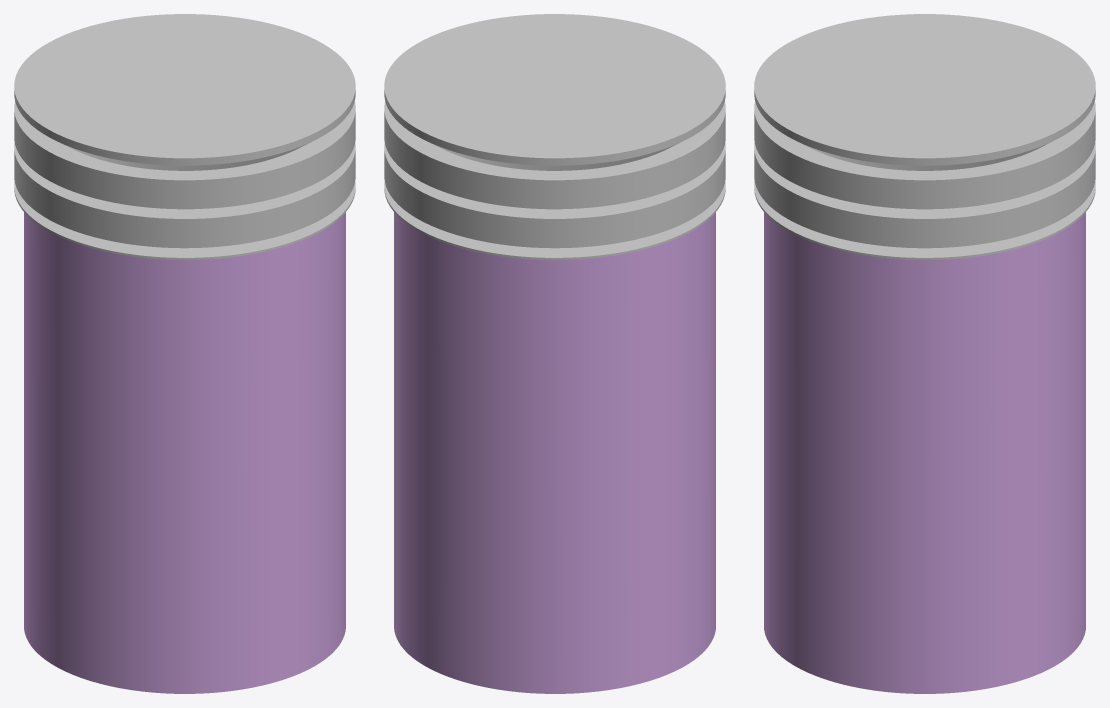
The model's file is Jar.fbx.
3 views of the same model, side by side, from view 1: azimuth 30°, elevation 25°; view 2: azimuth 150°, elevation 25°; view 3: azimuth 270°, elevation 25° (orthographic).
Visible parts, largest first — view 1: Jar; view 2: Jar; view 3: Jar.
Part boxes in pixels (bbox=[...]): Jar: bbox=[14, 14, 355, 693]; Jar: bbox=[384, 14, 725, 693]; Jar: bbox=[754, 14, 1095, 693].
Bounding box in the file's own units: 3179 × 5544 × 3180.
